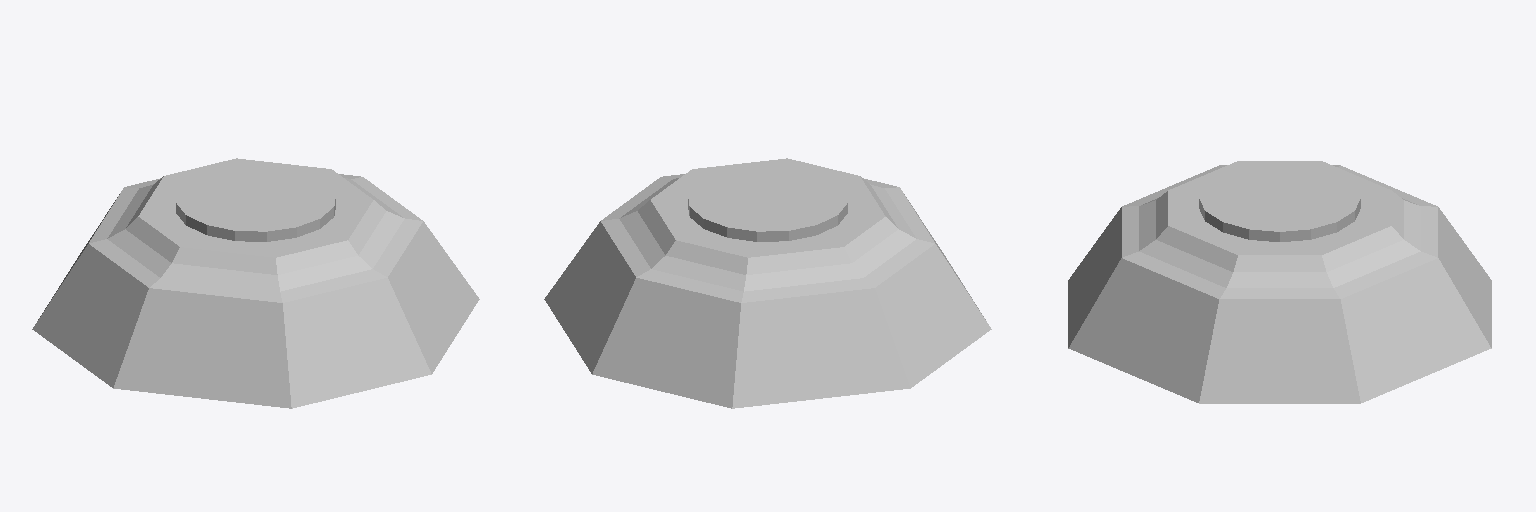
Rendered from mine.obj.
The picture shows the model from 3 angles: view 1: azimuth 30°, elevation 25°; view 2: azimuth 150°, elevation 25°; view 3: azimuth 270°, elevation 25°; orthographic projection.
Visible parts, largest first — view 1: BlueBipBIp; view 2: BlueBipBIp; view 3: BlueBipBIp.
Part boxes in pixels (bbox=[...]): BlueBipBIp: bbox=[32, 158, 479, 408]; BlueBipBIp: bbox=[544, 158, 991, 408]; BlueBipBIp: bbox=[1068, 161, 1491, 403].
Size of the model in its own units: 0.9847 by 0.2991 by 0.9847.